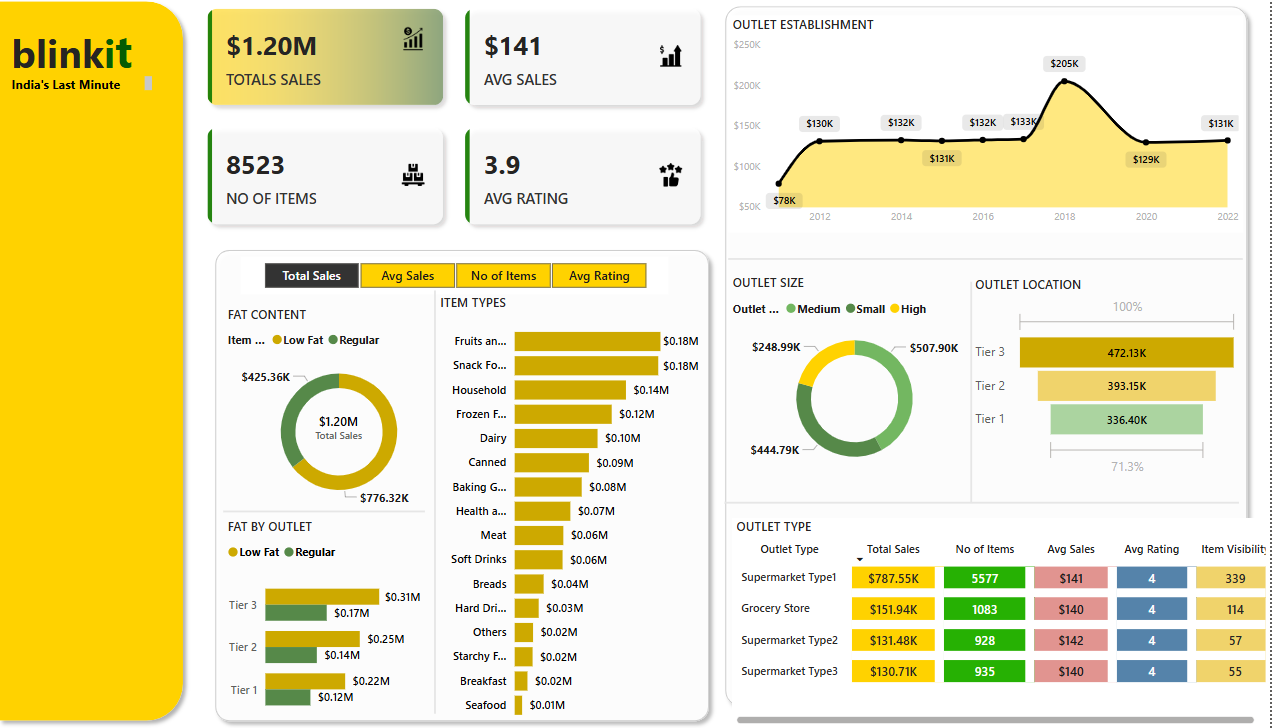

The page's visual inventory and layout, read from the dashboard file:
{"tool":"powerbi","page":{"name":"Page 1","canvas":[1400,800],"ordinal":0},"visuals":[{"type":"shape","box":[9.8,0,217.9,800],"z":0},{"type":"textbox","box":[27.6,24.4,182.1,302.4],"z":1000},{"type":"textbox","box":[27.6,86.2,162.6,29.3],"z":2000},{"type":"cardVisual","fields":{"Data":["BlinkIT Grocery Data.Total Sales","BlinkIT Grocery Data.Avg Sales","BlinkIT Grocery Data.No of Items","BlinkIT Grocery Data.Avg Rating"]},"box":[227.6,0,570.7,269.9],"z":3000},{"type":"shape","box":[243.9,269.9,554.5,530.1],"z":4000},{"type":"donutChart","title":"FAT CONTENT","fields":{"Y":["BlinkIT Grocery Data.Total Sales"],"Category":["BlinkIT Grocery Data.Item Fat Content"]},"box":[261.8,339.8,252,229.3],"z":5000},{"type":"slicer","fields":{"Values":["Metrics.Metrics"]},"box":[281.3,286.2,465,40.7],"z":6000},{"type":"cardVisual","fields":{"Data":["BlinkIT Grocery Data.Total Sales"]},"box":[322,434.1,131.7,74.8],"z":7000},{"type":"clusteredBarChart","title":"FAT BY OUTLET","fields":{"Y":["BlinkIT Grocery Data.Total Sales"],"Category":["BlinkIT Grocery Data.Outlet Location Type"],"Series":["BlinkIT Grocery Data.Item Fat Content"]},"box":[261.8,570.7,219.5,229.3],"z":8000},{"type":"shape","box":[261.8,544.7,219.5,37.4],"z":9000},{"type":"shape","box":[481.3,323.6,22.8,460.2],"z":10000},{"type":"barChart","title":"ITEM TYPES","fields":{"Y":["BlinkIT Grocery Data.Total Sales"],"Category":["BlinkIT Grocery Data.Item Type"]},"box":[492.7,326.8,291.1,473.2],"z":11000},{"type":"shape","box":[798.4,4.9,585.4,778.9],"z":12000},{"type":"lineChart","title":"OUTLET  ESTABLISHMENT","fields":{"Y":["BlinkIT Grocery Data.Total Sales"],"Category":["BlinkIT Grocery Data.Outlet Establishment Year"]},"box":[811.4,24.4,560,235.8],"z":13000},{"type":"shape","box":[811.4,269.9,559.3,37.4],"z":14000},{"type":"donutChart","title":"OUTLET SIZE","fields":{"Y":["BlinkIT Grocery Data.Total Sales"],"Category":["BlinkIT Grocery Data.Outlet Size"]},"box":[811.4,305.7,275,225],"z":15000},{"type":"shape","box":[1063.4,313.8,22.8,240.7],"z":16000},{"type":"funnel","title":"OUTLET LOCATION","fields":{"Y":["Sum(BlinkIT Grocery Data.Sales)"],"Category":["BlinkIT Grocery Data.Outlet Location Type"]},"box":[1074.8,307.3,295.9,222.8],"z":17000},{"type":"shape","box":[806.5,535,559.3,37.4],"z":18000},{"type":"pivotTable","title":"OUTLET TYPE","fields":{"Rows":["BlinkIT Grocery Data.Outlet Type"],"Values":["BlinkIT Grocery Data.Total Sales","BlinkIT Grocery Data.No of Items","BlinkIT Grocery Data.Avg Sales","BlinkIT Grocery Data.Avg Rating","Sum(BlinkIT Grocery Data.Item Visibility)"]},"box":[814.6,570.7,585.4,229.3],"z":19000}]}

Visuals, with their boxes in screenshot pixels (x1, y1, x2, y2), scaled from the page's 1400x800 canvas onto the 1276x728 screenshot:
shape: x1=9 y1=0 x2=208 y2=727
textbox: x1=25 y1=22 x2=191 y2=297
textbox: x1=25 y1=78 x2=173 y2=105
cardVisual - BlinkIT Grocery Data.Total Sales x BlinkIT Grocery Data.Avg Sales: x1=207 y1=0 x2=728 y2=246
shape: x1=222 y1=246 x2=728 y2=727
"FAT CONTENT" donutChart: x1=239 y1=309 x2=468 y2=518
slicer - Metrics.Metrics: x1=256 y1=260 x2=680 y2=297
cardVisual - BlinkIT Grocery Data.Total Sales: x1=293 y1=395 x2=414 y2=463
"FAT BY OUTLET" clusteredBarChart: x1=239 y1=519 x2=439 y2=727
shape: x1=239 y1=496 x2=439 y2=530
shape: x1=439 y1=294 x2=459 y2=713
"ITEM TYPES" barChart: x1=449 y1=297 x2=714 y2=727
shape: x1=728 y1=4 x2=1261 y2=713
"OUTLET  ESTABLISHMENT" lineChart: x1=740 y1=22 x2=1250 y2=237
shape: x1=740 y1=246 x2=1249 y2=280
"OUTLET SIZE" donutChart: x1=740 y1=278 x2=990 y2=483
shape: x1=969 y1=286 x2=990 y2=505
"OUTLET LOCATION" funnel: x1=980 y1=280 x2=1249 y2=482
shape: x1=735 y1=487 x2=1245 y2=521
"OUTLET TYPE" pivotTable: x1=742 y1=519 x2=1275 y2=727
